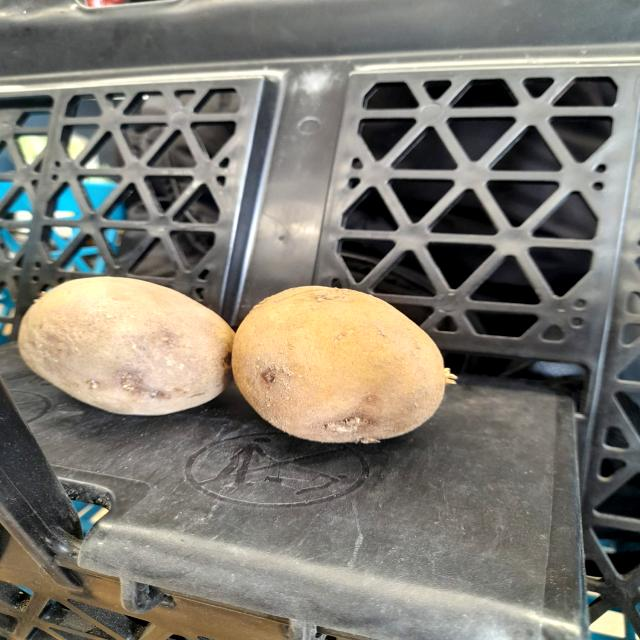potato: (234, 272, 466, 451), (7, 264, 232, 424)
